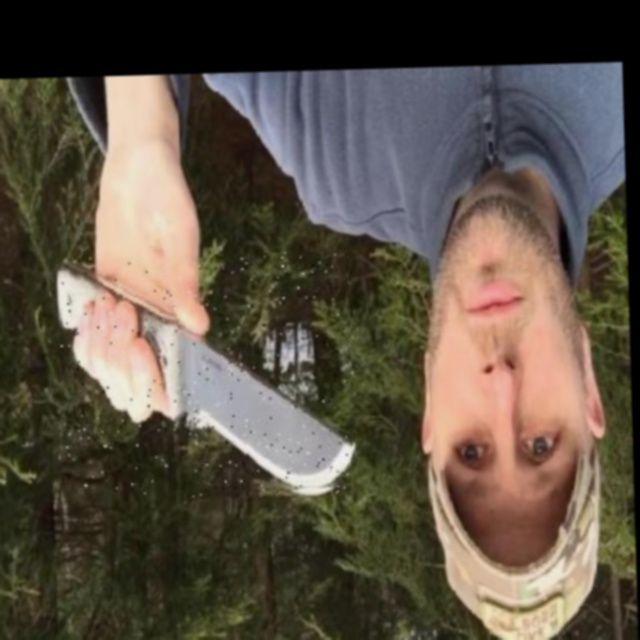Sharp-Object: (57, 250, 356, 502)
